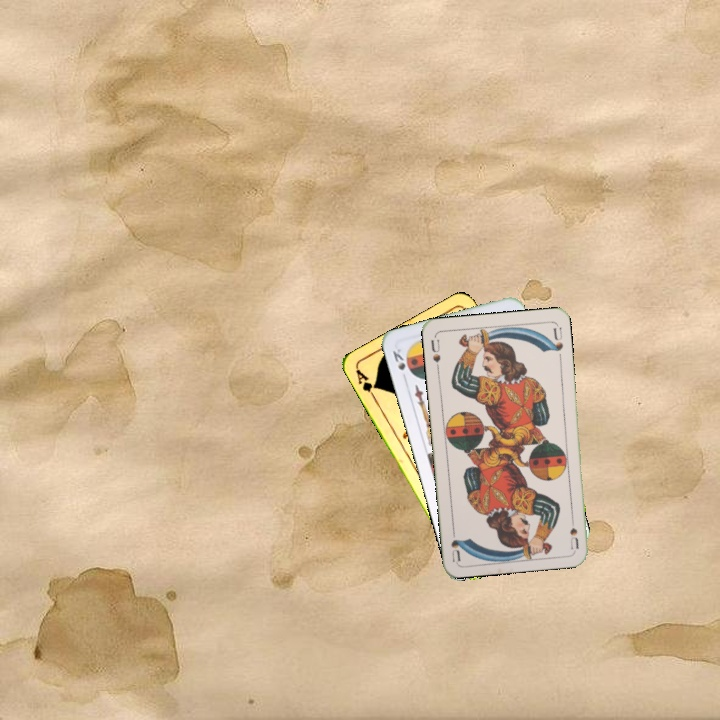GA: (352, 365, 379, 402)
SK: (388, 344, 408, 373)
SU: (427, 333, 443, 374), (566, 510, 581, 551)
